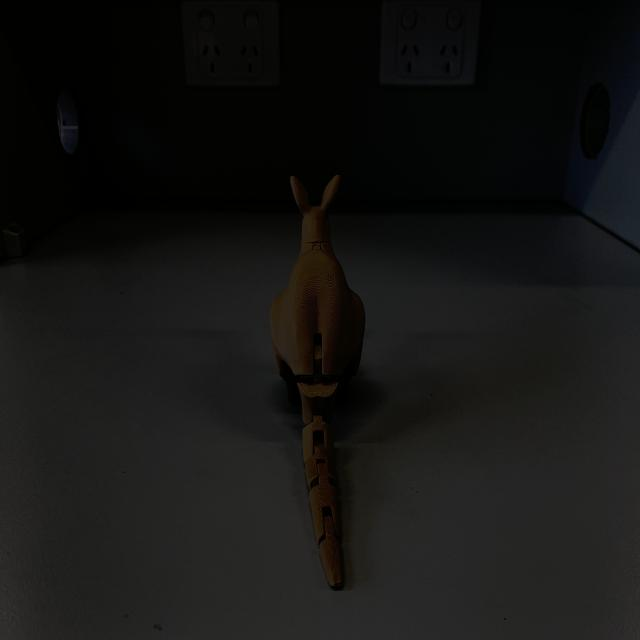kangaroo: (267, 172, 371, 591)
